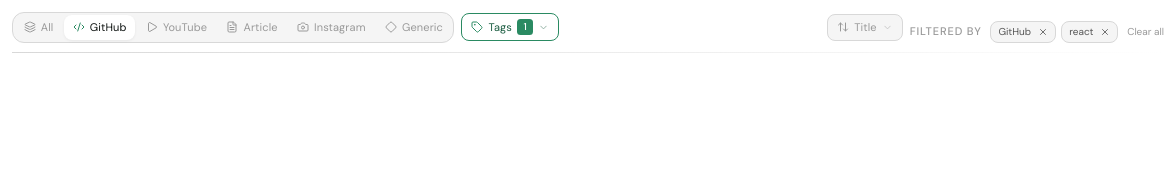
Test: FilterBar › ActiveFilters › clears all filters on Clear all click
Step 1. Click the button "Clear all" → (1146, 32), box 1127,25 -> 1164,38
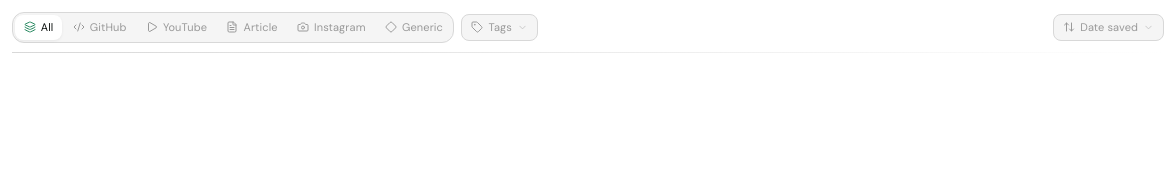
expect the text "FILTERED BY" is gone: met
expect the text "Date saved" is shown: met, box 1080,20 -> 1138,35
